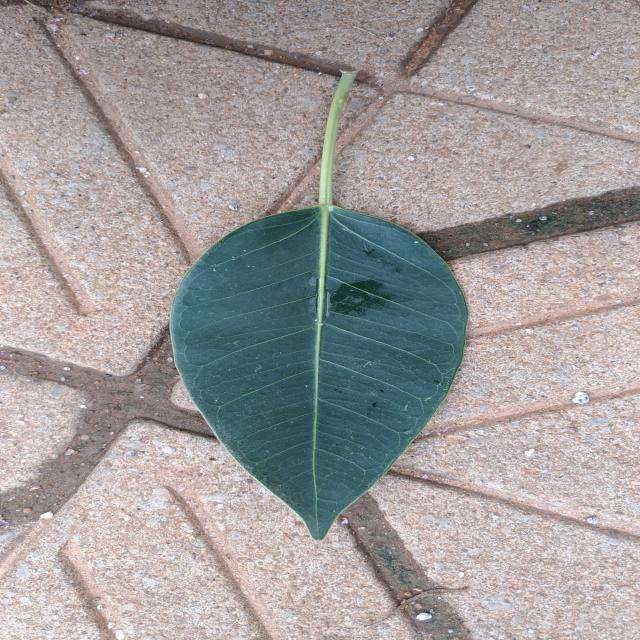camphor: (171, 71, 467, 540)
